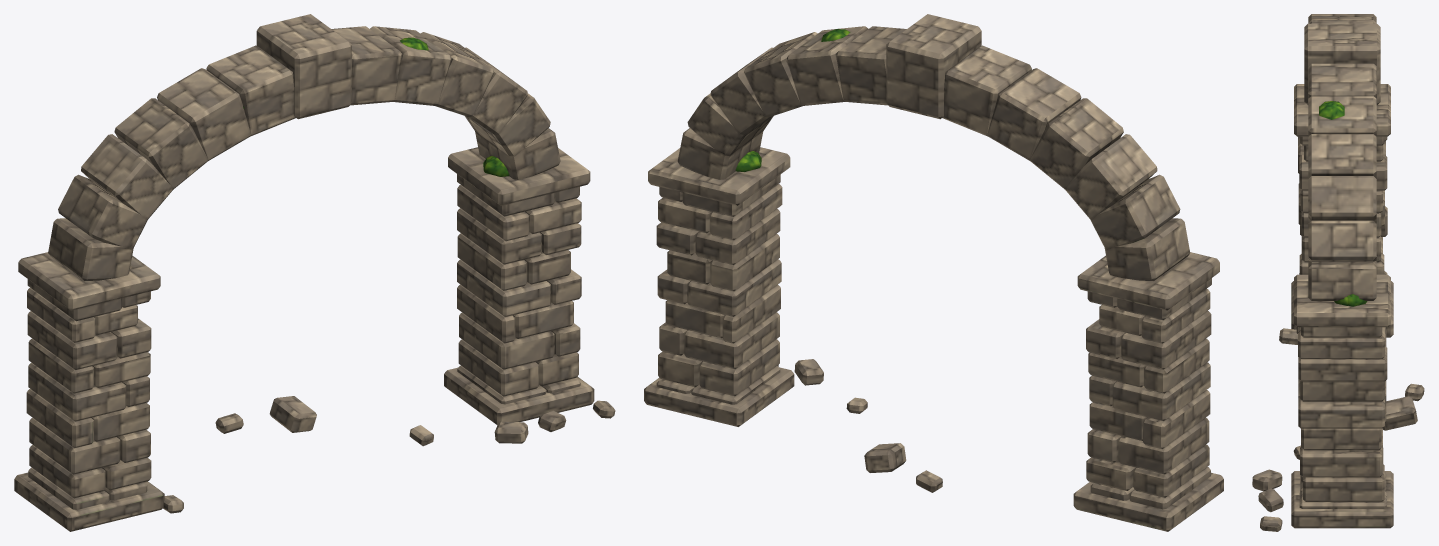
File: mapkit_arch_forest.fbx
The picture shows the model from 3 angles, left to right: view 1: azimuth 30°, elevation 25°; view 2: azimuth 150°, elevation 25°; view 3: azimuth 270°, elevation 25°; orthographic projection. The views are drawn at different scales.
Visible parts, largest first — view 1: Body; view 2: Body; view 3: Body.
Boxes of the visible parts, bbox=[...] form: Body: bbox=[14, 14, 615, 531]; Body: bbox=[644, 14, 1223, 531]; Body: bbox=[1252, 14, 1424, 531].
Size of the model in its own units: 2133 by 1611 by 655.
Materials: 1 (1 with a texture image).
